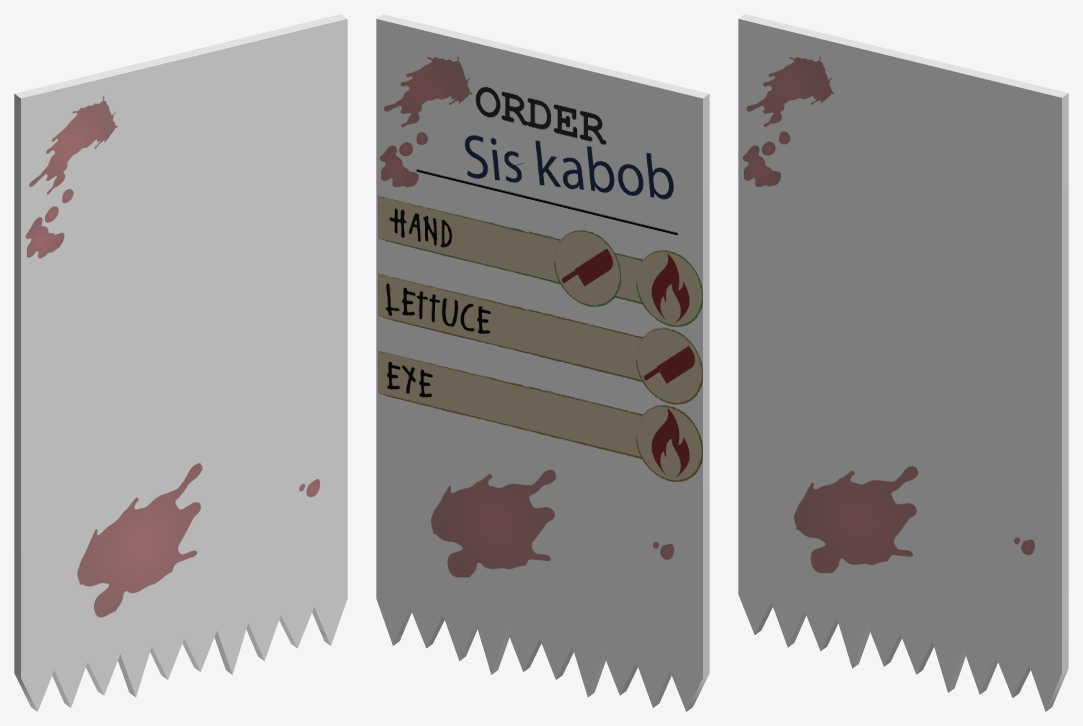
Rendered from Prop_OrderTicket_v01.fbx.
3 views of the same model, side by side, from view 1: azimuth 30°, elevation 25°; view 2: azimuth 150°, elevation 25°; view 3: azimuth 330°, elevation 25° (orthographic).
Parts seen in each view (by area): view 1: OrderTicket; view 2: OrderTicket; view 3: OrderTicket.
Part boxes in pixels (box(x1,y1,x2,y2)): OrderTicket: box(14, 14, 347, 711); OrderTicket: box(376, 14, 709, 711); OrderTicket: box(738, 14, 1068, 711).
Size of the model in its own units: 4.75 by 8.74 by 0.1687.
1 material, 1 textured.
